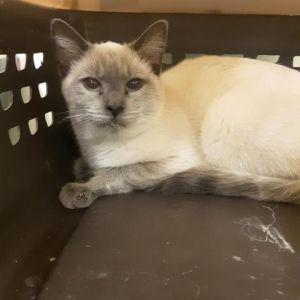siamese: (44, 14, 177, 151)
